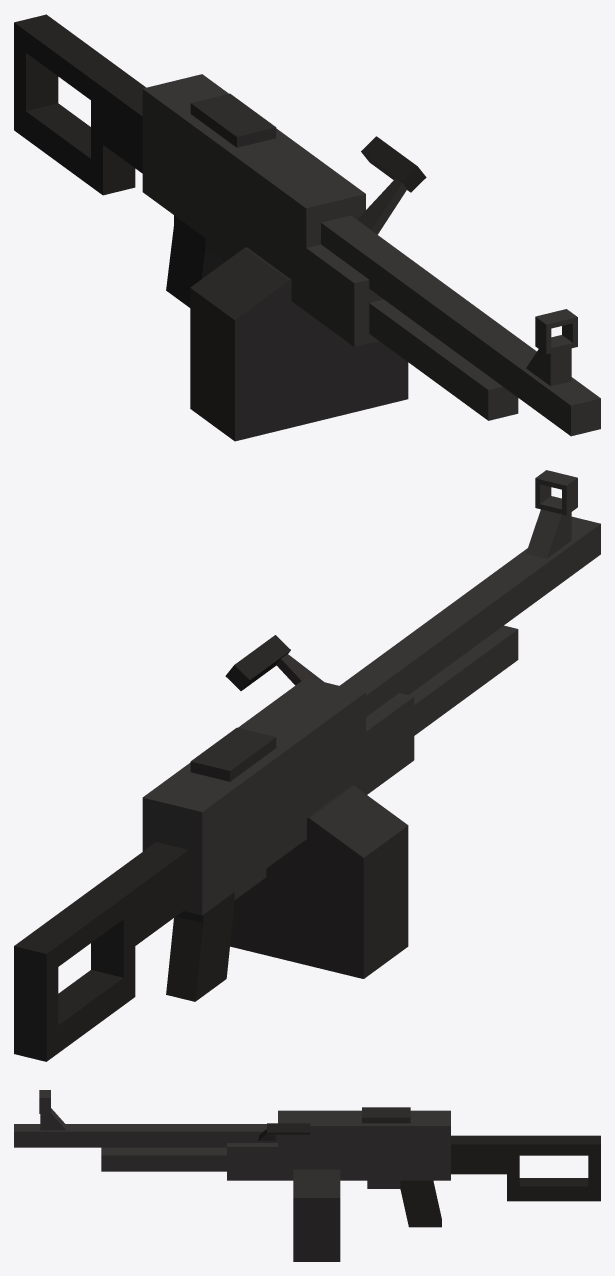
File: LMGRussian.FBX
The picture shows the model from 3 angles, top to bottom: view 1: azimuth 30°, elevation 25°; view 2: azimuth 150°, elevation 25°; view 3: azimuth 270°, elevation 25°; orthographic projection. The views are drawn at different scales.
Visible parts, largest first — view 1: LMGrussian, LMGrussian_mag; view 2: LMGrussian, LMGrussian_mag; view 3: LMGrussian, LMGrussian_mag.
Part boxes in pixels (left/top/right/bottom): LMGrussian: left=14, top=14, right=600, bottom=436; LMGrussian_mag: left=190, top=247, right=408, bottom=441; LMGrussian: left=14, top=470, right=600, bottom=1061; LMGrussian_mag: left=230, top=785, right=408, bottom=978; LMGrussian: left=14, top=1090, right=600, bottom=1227; LMGrussian_mag: left=293, top=1169, right=340, bottom=1261.
Bounding box in the file's own units: 36.09 × 200 × 54.74.
